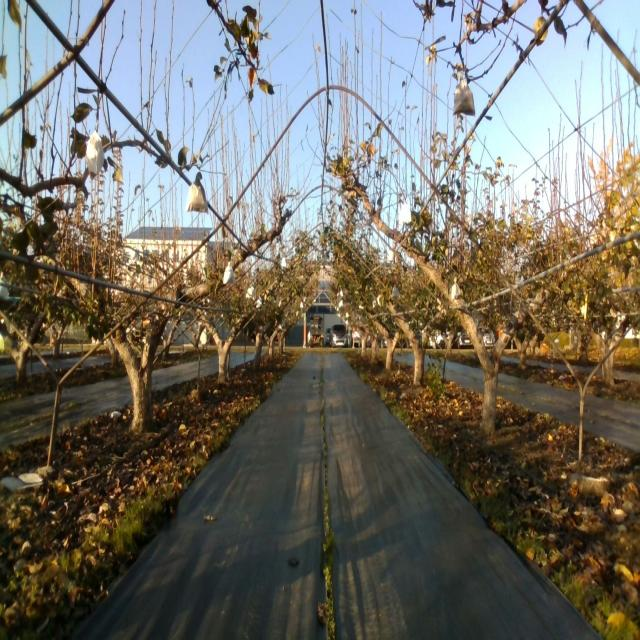pearbags: (186, 172, 208, 214), (86, 132, 105, 176), (453, 80, 476, 116), (222, 260, 237, 285), (401, 203, 412, 224)
